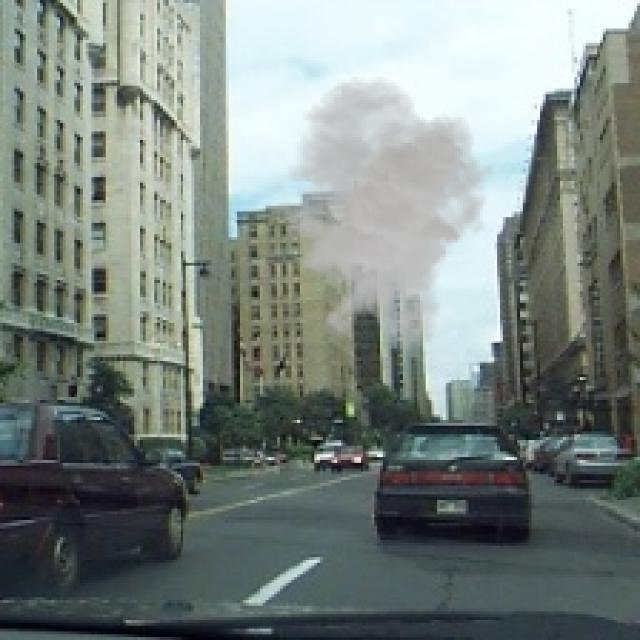Smoke: (260, 77, 494, 352)
